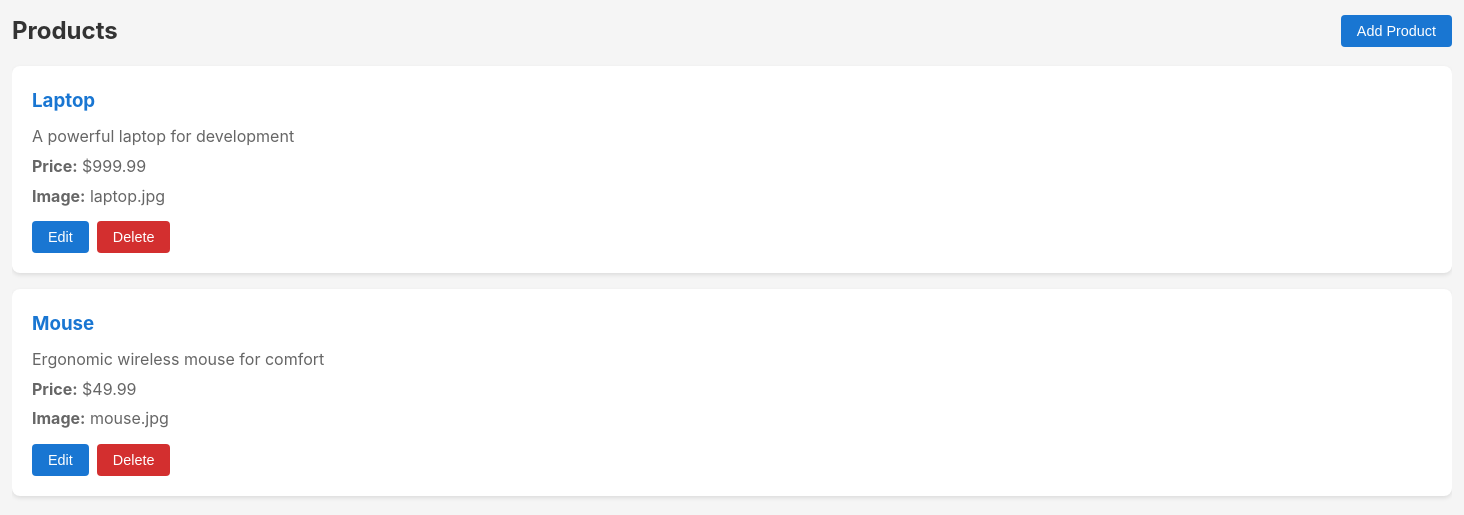
ProductList › opens edit form when clicking Edit
Expected: the heading "Laptop" is shown, [32, 89, 95, 112]
Step 1. Click the button "Edit" below "laptop.jpg" → click(60, 237), box [32, 221, 89, 253]
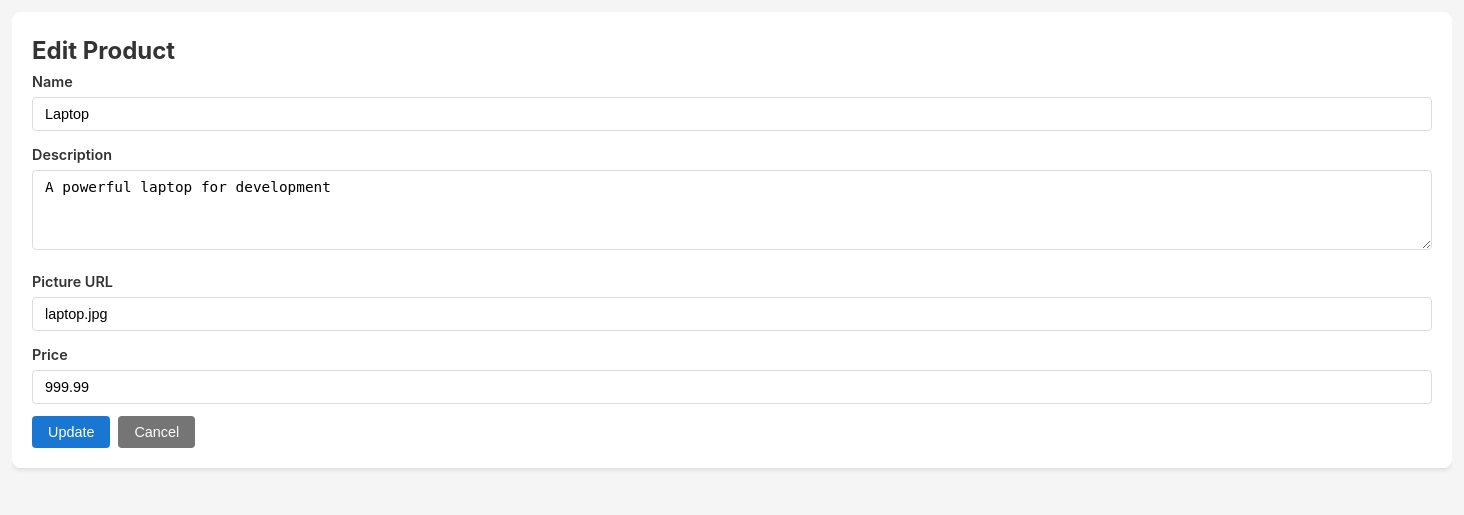
Now the heading "Edit Product" is shown, box [32, 36, 175, 65]
